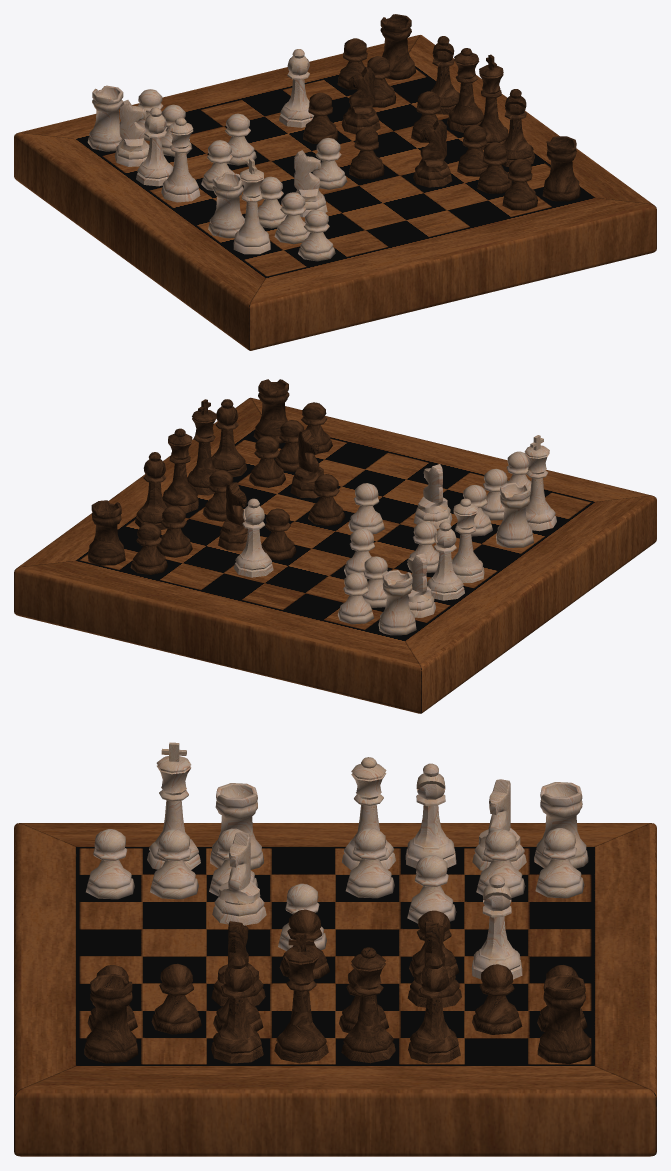
The model's file is WoodenChessSet1.glb.
3 views of the same model, one above another, from view 1: azimuth 30°, elevation 25°; view 2: azimuth 150°, elevation 25°; view 3: azimuth 270°, elevation 25° (orthographic). The views are drawn at different scales.
Parts seen in each view (by area): view 1: ChessBoard, WhiteKing, BlackRook.001, WhiteQueen, WhiteRook, WhiteRook.001, BlackKnight.001, BlackQueen, BlackKnight, BlackRook, WhiteKnight.001, WhiteBishop.001 (+21 smaller); view 2: ChessBoard, WhiteRook.001, BlackRook, WhiteRook, WhiteKing, WhiteBishop, BlackQueen, WhiteQueen, WhiteBishop.001, BlackKing, BlackRook.001, BlackBishop.001 (+21 smaller); view 3: ChessBoard, BlackKing, BlackRook, BlackRook.001, BlackQueen, BlackBishop.001, BlackBishop, WhiteKnight, WhiteBishop.001, WhiteBishop, WhiteKing, WhiteRook.001 (+21 smaller).
Boxes of the visible parts, x1,y1,x2,y2 form: ChessBoard: (14,35,656,350); WhiteKing: (233,158,270,254); BlackRook.001: (542,136,580,201); WhiteQueen: (161,117,200,202); WhiteRook: (208,172,244,238); WhiteRook.001: (87,85,123,151); BlackKnight.001: (413,119,452,187); BlackQueen: (447,48,483,132); BlackKnight: (341,66,380,134); BlackRook: (380,14,416,79); WhiteKnight.001: (114,100,149,166); WhiteBishop.001: (136,107,173,186); ChessBoard: (14,397,656,713); WhiteRook.001: (378,570,416,635); BlackRook: (87,500,125,565); WhiteRook: (496,482,533,547); WhiteKing: (524,435,556,531); WhiteBishop: (234,498,273,577); BlackQueen: (162,428,198,513); WhiteQueen: (451,498,484,582); WhiteBishop.001: (427,521,464,600); BlackKing: (187,399,216,495); BlackRook.001: (253,379,289,443); BlackBishop.001: (211,399,246,477); ChessBoard: (14,823,656,1156); BlackKing: (274,933,328,1063); BlackRook: (537,974,591,1063); BlackRook.001: (84,974,138,1063); BlackQueen: (341,947,395,1063); BlackBishop.001: (211,956,263,1063); BlackBishop: (408,956,460,1063); WhiteKnight: (212,832,266,925); WhiteBishop.001: (405,763,456,868); WhiteBishop: (471,875,522,979); WhiteKing: (147,742,200,869); WhiteRook.001: (534,782,588,868).
Bounding box in the file's own units: 0.35 × 0.1108 × 0.35.
3 materials, 3 textured.
